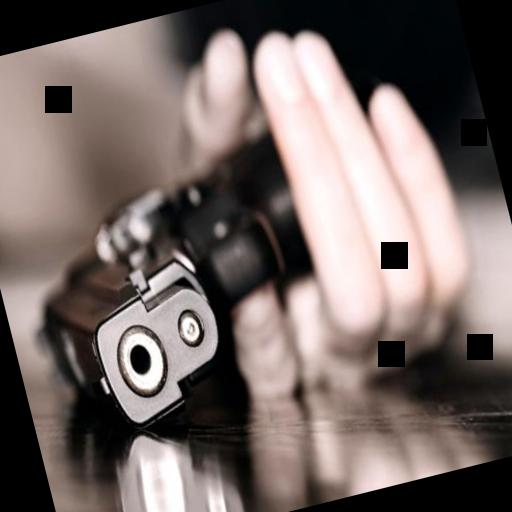Handgun: (10, 115, 396, 445)
